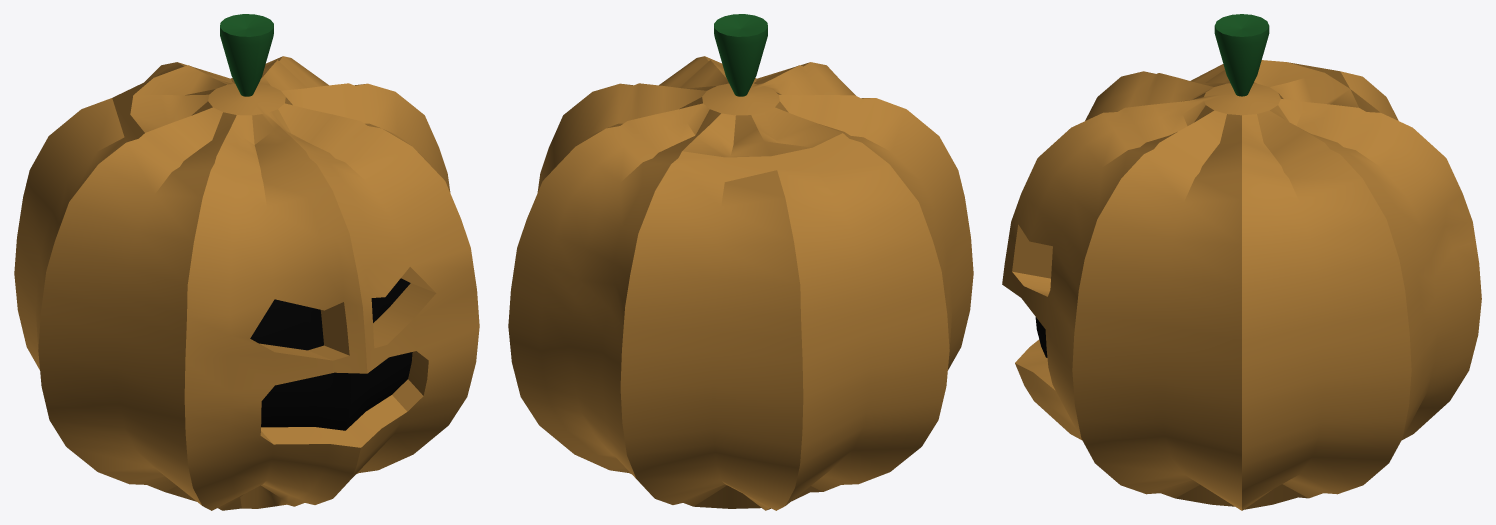
3 renders of one model, left to right at view 1: azimuth 30°, elevation 25°; view 2: azimuth 150°, elevation 25°; view 3: azimuth 270°, elevation 25°, orthographic.
Parts seen in each view (by area): view 1: Cube; view 2: Cube; view 3: Cube.
Boxes of the visible parts, <box> form: Cube: <box>14,14,479,510</box>; Cube: <box>508,14,973,510</box>; Cube: <box>1002,14,1481,510</box>.
Size of the model in its own units: 167 by 176 by 167.
